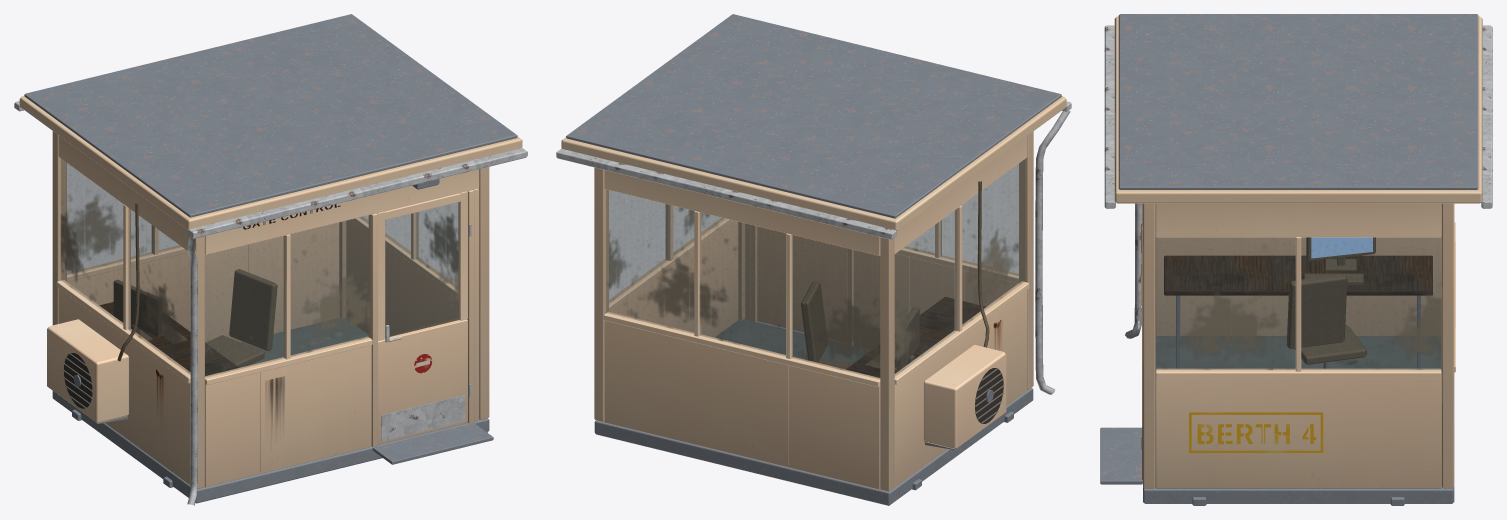
The model's file is guard_booth.glb.
The picture shows the model from 3 angles, left to right: view 1: azimuth 30°, elevation 25°; view 2: azimuth 150°, elevation 25°; view 3: azimuth 270°, elevation 25°; orthographic projection. The views are drawn at different scales.
Visible parts, largest first — view 1: guard_booth; view 2: guard_booth; view 3: guard_booth.
Boxes of the visible parts, <box> form: guard_booth: <box>14,14,527,505</box>; guard_booth: <box>556,14,1071,505</box>; guard_booth: <box>1100,14,1492,505</box>.
Bounding box in the file's own units: 3.11 × 2.55 × 2.77.
Materials: 15 (13 with a texture image).
